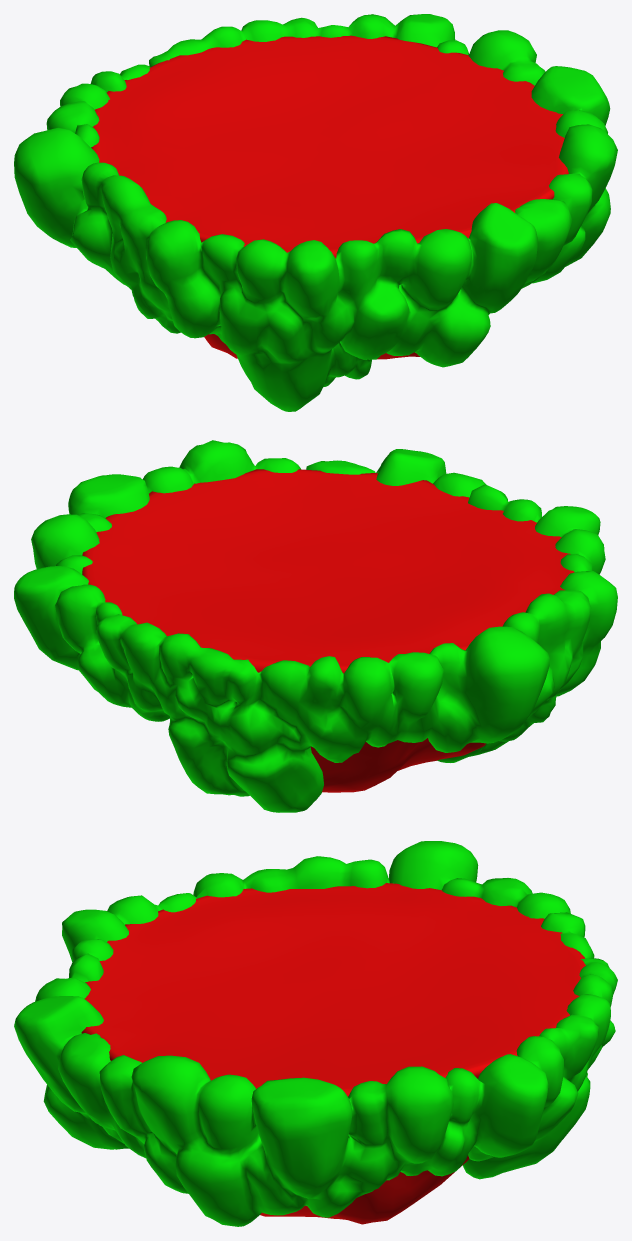
The model's file is BigIsland_low.fbx.
The picture shows the model from 3 angles, top to bottom: view 1: azimuth 30°, elevation 25°; view 2: azimuth 150°, elevation 25°; view 3: azimuth 270°, elevation 25°; orthographic projection. The views are drawn at different scales.
Visible parts, largest first — view 1: PM3D_PolySphere3, PM3D_PolySphere1; view 2: PM3D_PolySphere3, PM3D_PolySphere1; view 3: PM3D_PolySphere3, PM3D_PolySphere1.
Boxes of the visible parts, <box> form: PM3D_PolySphere3: <box>14,14,617,411</box>; PM3D_PolySphere1: <box>91,35,568,359</box>; PM3D_PolySphere3: <box>14,440,617,812</box>; PM3D_PolySphere1: <box>82,469,574,792</box>; PM3D_PolySphere3: <box>14,841,617,1226</box>; PM3D_PolySphere1: <box>81,883,585,1224</box>.
Bounding box in the file's own units: 4.68 × 2 × 4.4.
